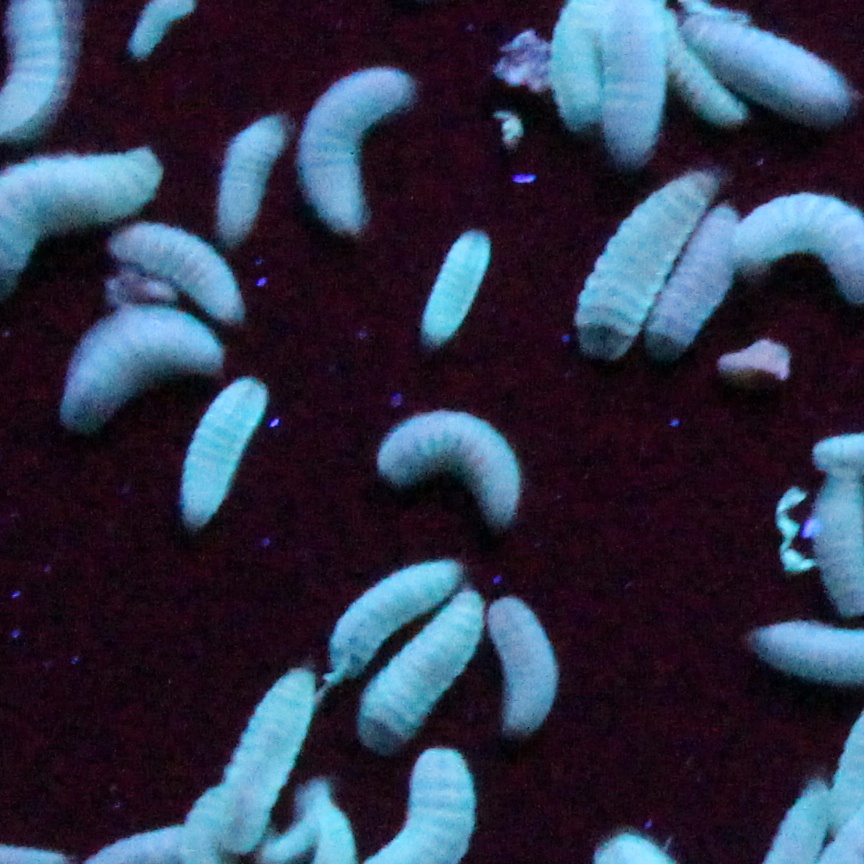larve: (578, 170, 724, 355), (684, 3, 861, 120), (295, 64, 406, 239), (58, 310, 229, 419), (371, 588, 475, 748), (224, 661, 309, 855), (329, 557, 462, 675), (178, 378, 264, 545), (384, 412, 518, 512), (649, 210, 740, 355), (491, 595, 562, 735), (115, 232, 238, 312), (216, 109, 281, 246), (418, 237, 487, 352)
